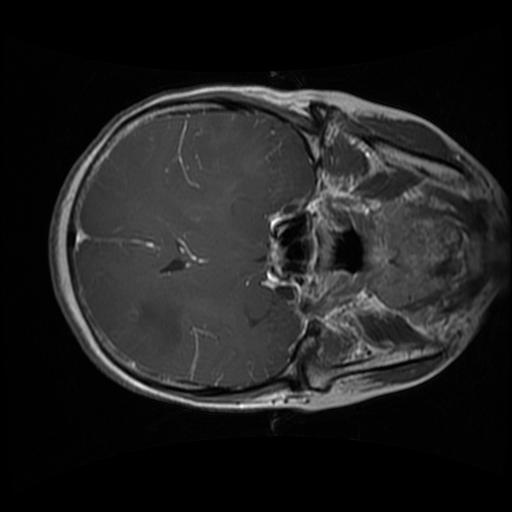glioma: (136, 296, 183, 344)
